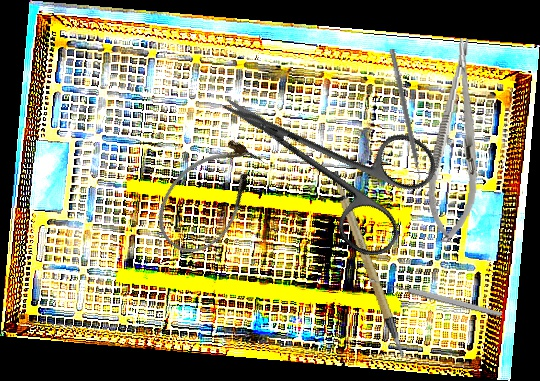Cannula: (142, 125, 276, 267)
Iris Scissors: (193, 43, 447, 266)
Needle Holder: (422, 36, 491, 245)
Scalpel Handle: (326, 165, 407, 366)
Spatula Surgical: (383, 48, 426, 185)
Surgical Spoon: (369, 275, 503, 319)
